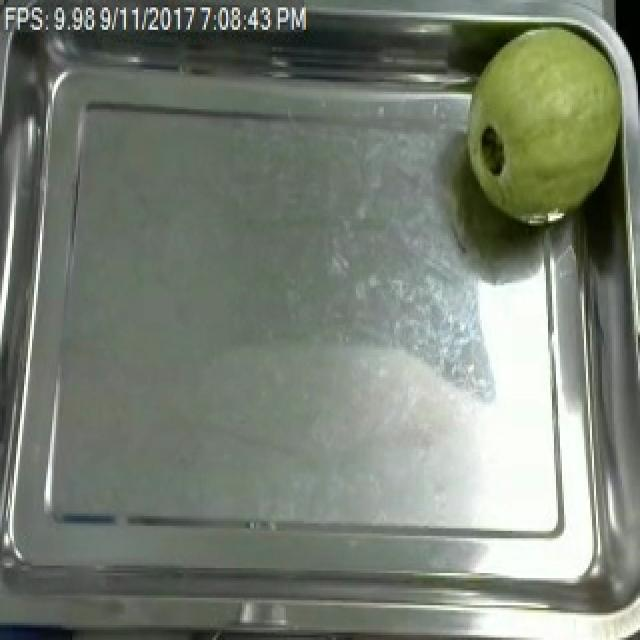Fruit: (438, 13, 638, 238)
